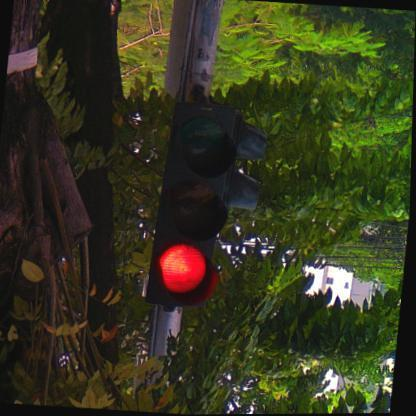red: (145, 100, 239, 310)
